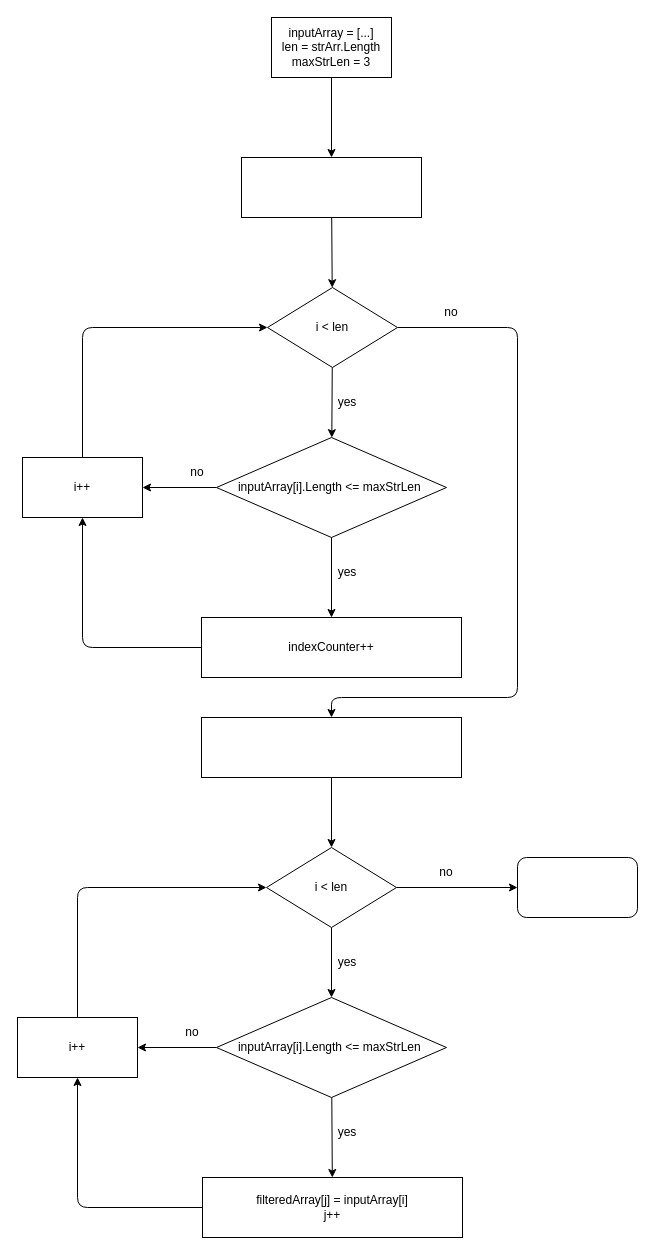
The diagram is 655 pixels wide and 1255 high, and some of its shapes have lost their labels. The shapes that lost their labels are listed below. From the top down, each one's centre as x and y in pixels, then its label:
At pixel 331 187: "i = 0 int indexCounter = 0".
At pixel 331 747: "string[] filteredArray = new string [indexCounter] int j = 0".
At pixel 577 887: "return filteredArray".
